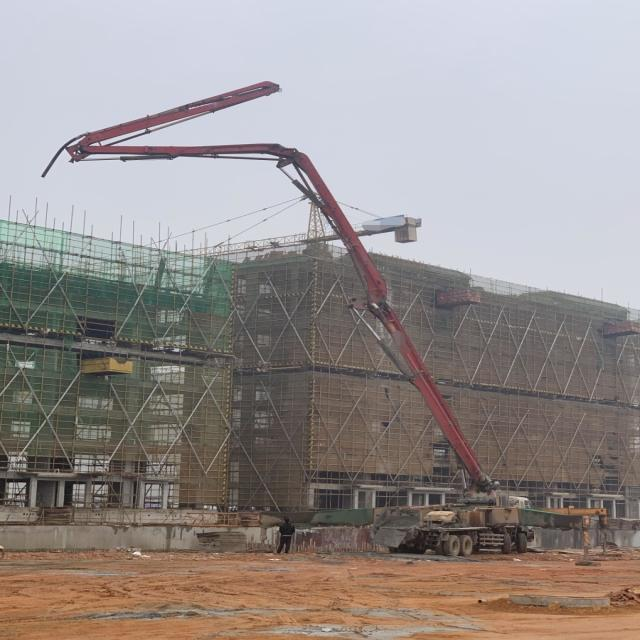crane: (73, 200, 421, 272)
truck: (41, 80, 620, 566)
